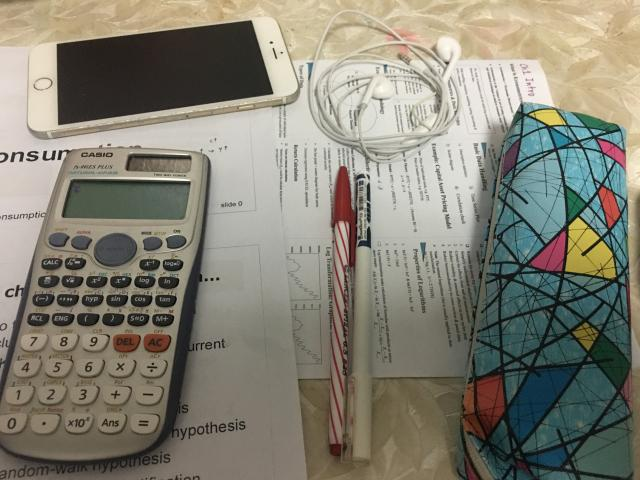Mobile phone: (28, 18, 299, 139)
Pen: (329, 166, 372, 461)
paper: (0, 43, 306, 479), (266, 60, 640, 379)
wire: (309, 10, 461, 162)
